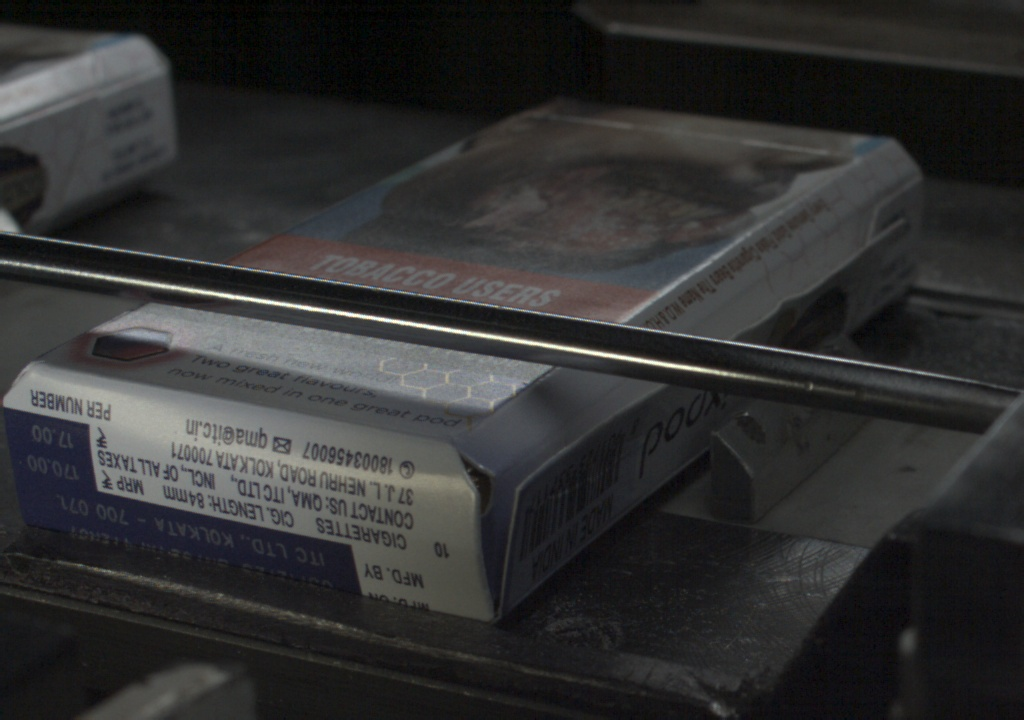g_label: (14, 490, 359, 593)
g_miter: (868, 169, 920, 203)
ng_bottom: (462, 445, 494, 615)
ng_lmiter: (697, 269, 786, 335), (483, 437, 557, 500), (784, 212, 861, 269), (558, 382, 635, 436)
price: (4, 419, 95, 488)
